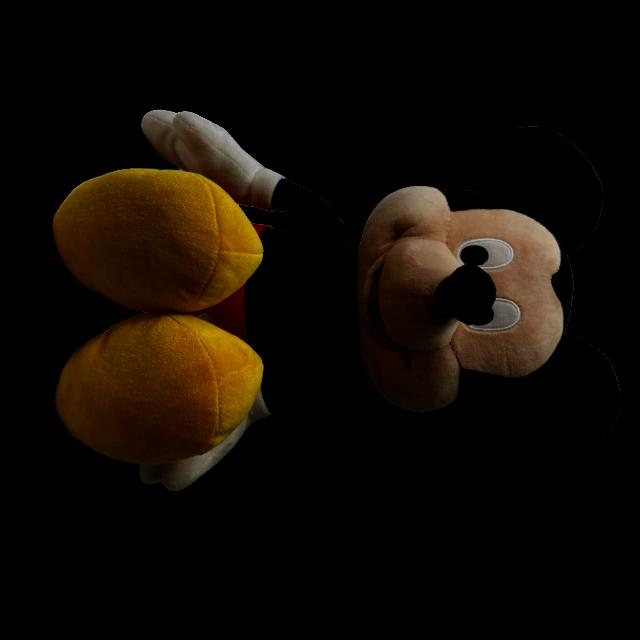mickey: (53, 111, 618, 489)
